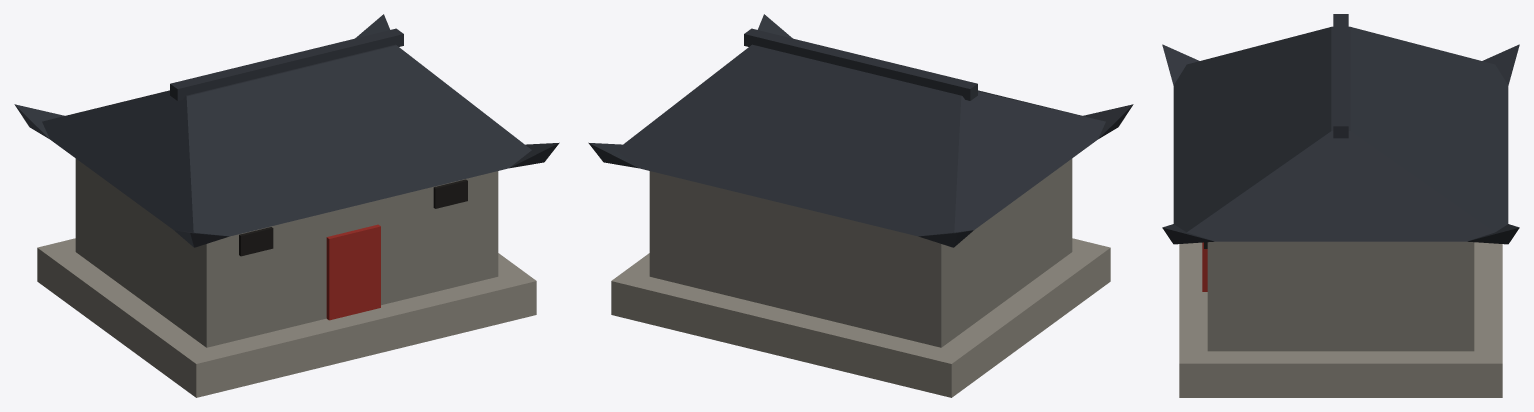
The model's file is granary.glb.
3 renders of one model, left to right at view 1: azimuth 30°, elevation 25°; view 2: azimuth 150°, elevation 25°; view 3: azimuth 270°, elevation 25°, orthographic.
Parts seen in each view (by area): view 1: Granary; view 2: Granary; view 3: Granary.
Part boxes in pixels (x1=…): Granary: x1=14, y1=14, x2=559, y2=397; Granary: x1=588, y1=14, x2=1133, y2=397; Granary: x1=1162, y1=14, x2=1519, y2=397.
Bounding box in the file's own units: 11.4 × 7.06 × 9.4.
